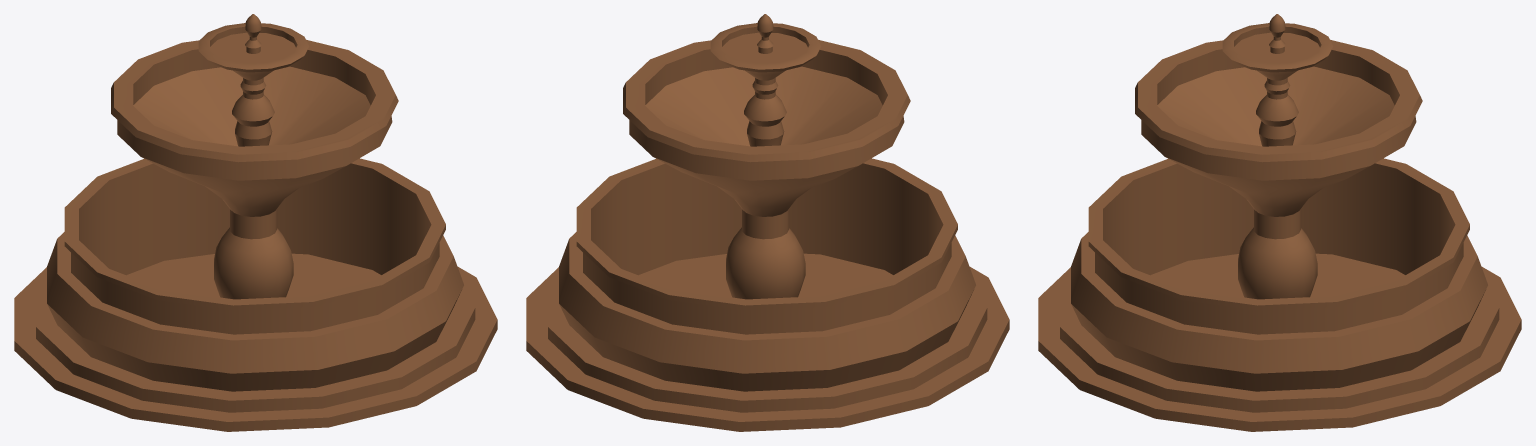
Rendered from Fountain 2.fbx.
The picture shows the model from 3 angles, left to right: view 1: azimuth 30°, elevation 25°; view 2: azimuth 150°, elevation 25°; view 3: azimuth 270°, elevation 25°; orthographic projection.
Parts seen in each view (by area): view 1: Fountain Bottom, Fountain Top; view 2: Fountain Bottom, Fountain Top; view 3: Fountain Bottom, Fountain Top.
Part boxes in pixels (box(x1,y1,x2,y2)): Fountain Bottom: box(14, 158, 497, 431); Fountain Top: box(111, 14, 398, 299); Fountain Bottom: box(526, 158, 1009, 431); Fountain Top: box(623, 14, 910, 299); Fountain Bottom: box(1038, 158, 1521, 431); Fountain Top: box(1135, 14, 1422, 299).
Bounding box in the file's own units: 759 × 543 × 755.
